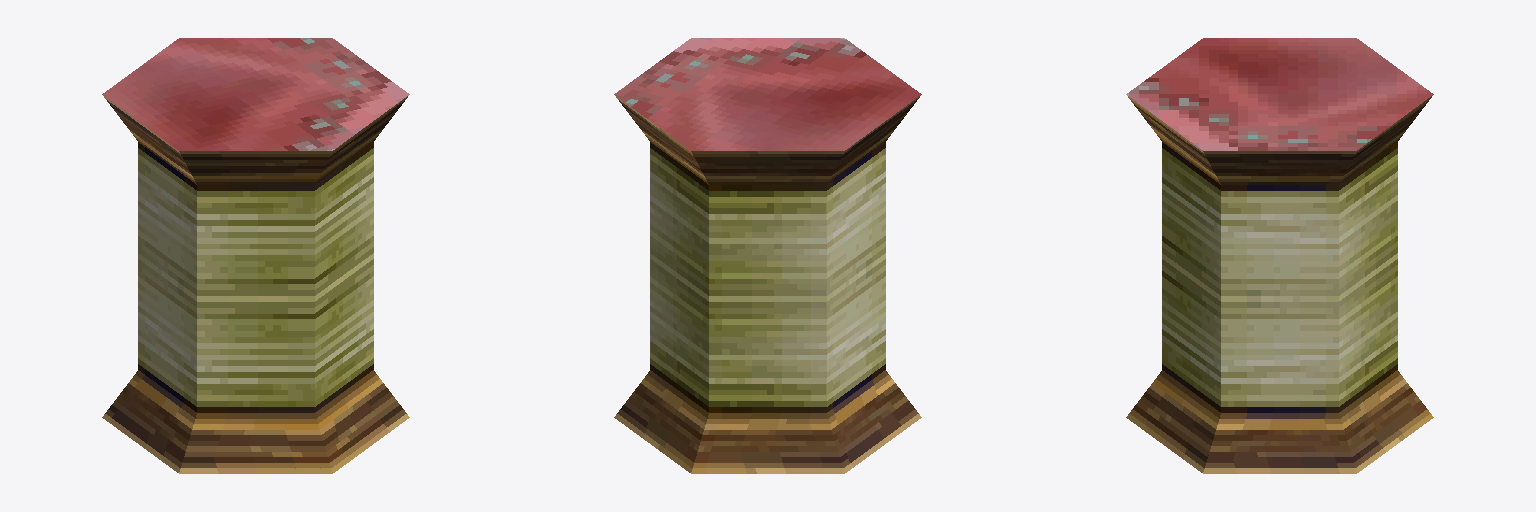
3 renders of one model, left to right at view 1: azimuth 30°, elevation 25°; view 2: azimuth 150°, elevation 25°; view 3: azimuth 270°, elevation 25°, orthographic.
Visible parts, largest first — view 1: object 1; view 2: object 1; view 3: object 1.
Part boxes in pixels (x1,y1,x2,y2): object 1: (102, 38, 409, 473); object 1: (614, 38, 921, 473); object 1: (1126, 38, 1433, 473).
Size of the model in its own units: 0.1862 by 0.2489 by 0.215.
1 materials, 1 textured.